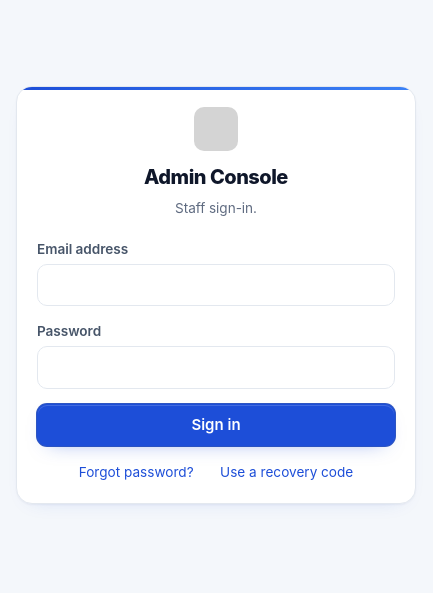
AdminLogin › recover flow posts the code + new password and confirms on success
This screenshot has width=433, height=593.
Click the button "Use a recovery code": (287, 472) top-left (214, 461), bottom-right (359, 483)
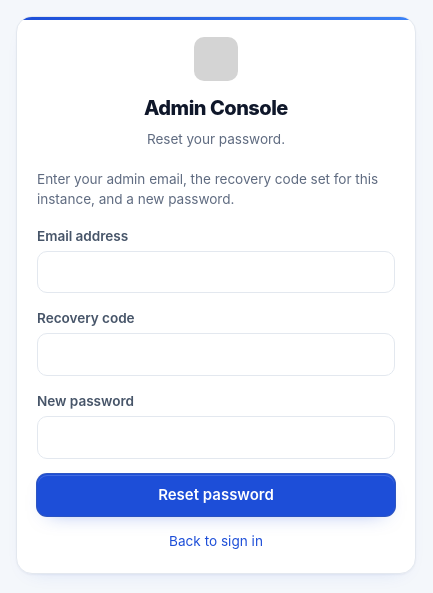
In the field labelled "Email address": (216, 272) top-left (37, 251), bottom-right (395, 293), type "Admin@PCI.io"
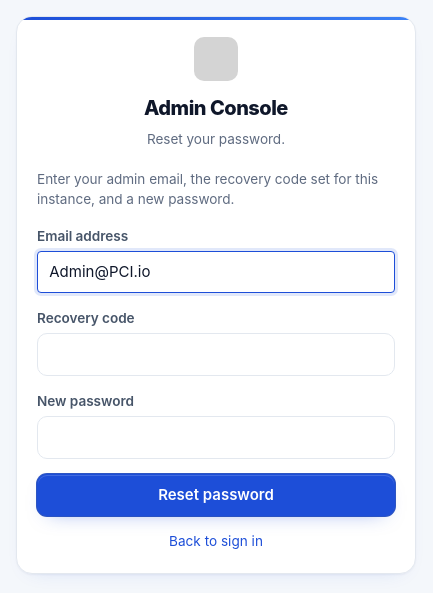
In the field labelled "Recovery code": (216, 355) top-left (37, 334), bottom-right (395, 376), type " RC-9 "
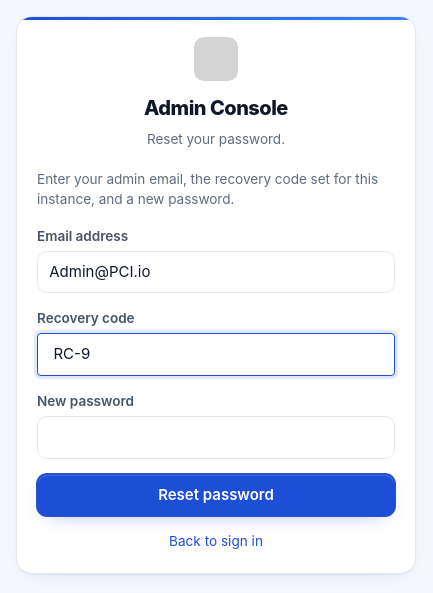
In the password field labelled "New password": (216, 437) top-left (37, 416), bottom-right (395, 459), type "longenough1"
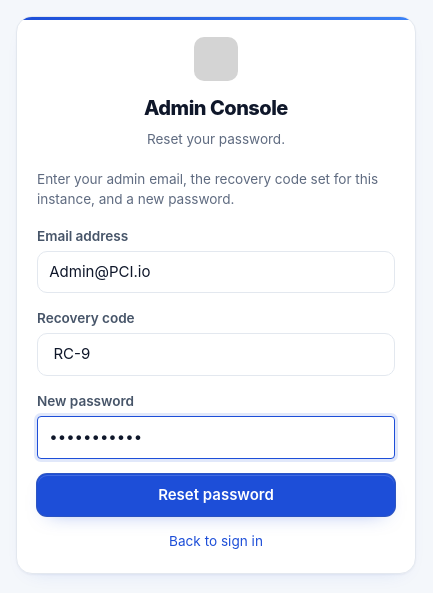
Click the button "Reset password": (216, 495) top-left (37, 474), bottom-right (395, 516)
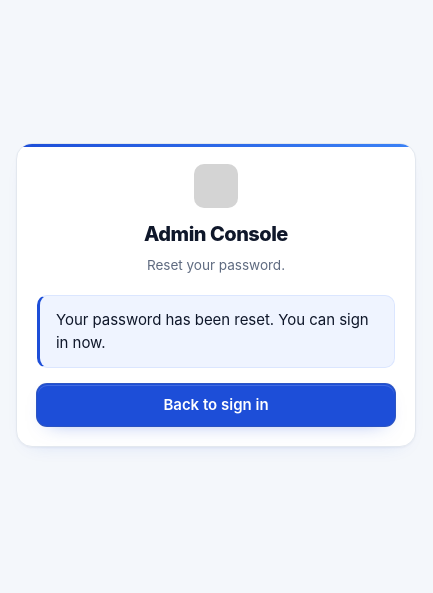
Now the text "Your password has been reset. You can sign in now." is shown, box top-left (37, 295), bottom-right (395, 368)
